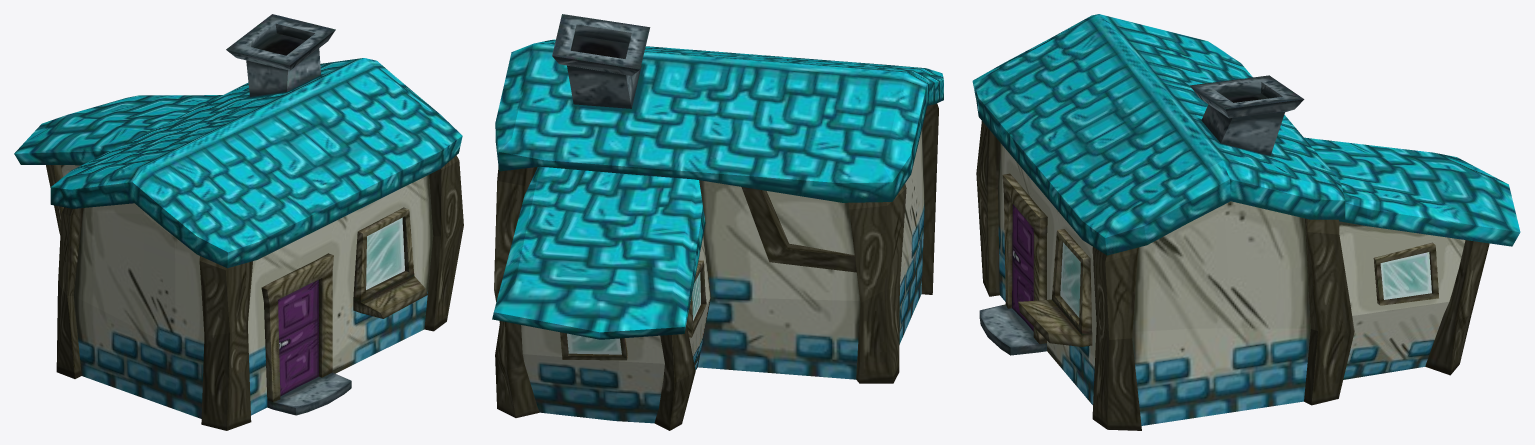
The model's file is houseplus_small.glb.
3 views of the same model, side by side, from view 1: azimuth 30°, elevation 25°; view 2: azimuth 150°, elevation 25°; view 3: azimuth 270°, elevation 25° (orthographic). The views are drawn at different scales.
Parts seen in each view (by area): view 1: HousePLUS_small_HausPLUS_01_0; view 2: HousePLUS_small_HausPLUS_01_0; view 3: HousePLUS_small_HausPLUS_01_0.
Boxes of the visible parts, x1=… form: HousePLUS_small_HausPLUS_01_0: x1=14, y1=14, x2=463, y2=430; HousePLUS_small_HausPLUS_01_0: x1=492, y1=14, x2=943, y2=430; HousePLUS_small_HausPLUS_01_0: x1=972, y1=14, x2=1520, y2=430.
Size of the model in its own units: 5.26 by 3.67 by 6.28.
Materials: 1 (1 with a texture image).
